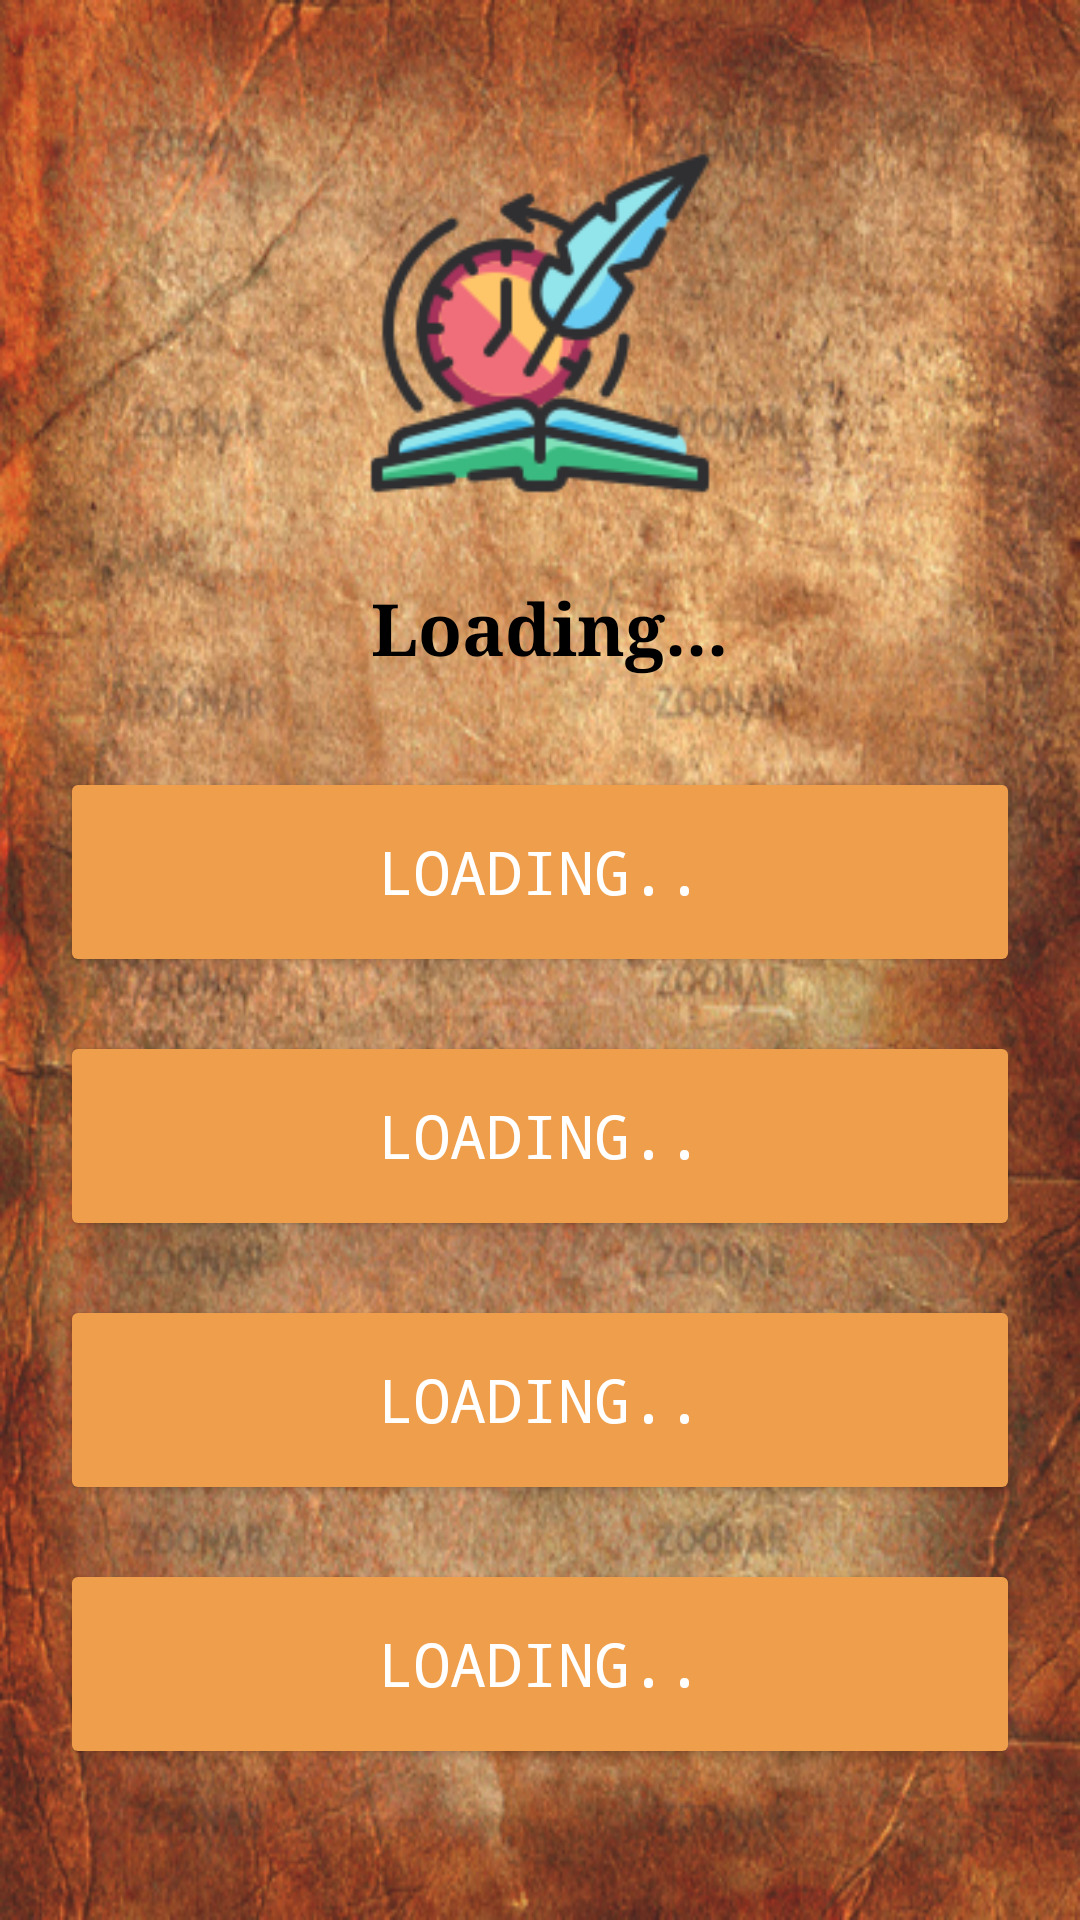

Where to tap for icons on this 1080*1920 app screen, as [x,y]:
history: [540,322]
